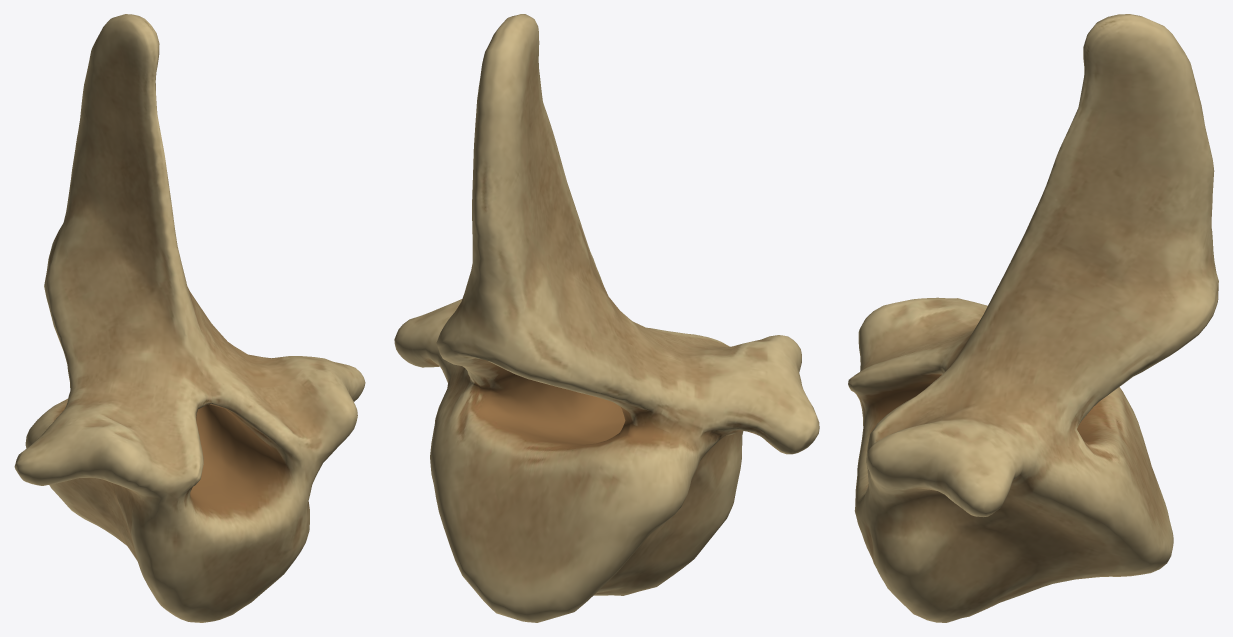
The picture shows the model from 3 angles, left to right: view 1: azimuth 30°, elevation 25°; view 2: azimuth 150°, elevation 25°; view 3: azimuth 270°, elevation 25°; orthographic projection. The views are drawn at different scales.
Parts seen in each view (by area): view 1: Group62196; view 2: Group62196; view 3: Group62196.
Part boxes in pixels (x1=…): Group62196: x1=14, y1=14, x2=365, y2=622; Group62196: x1=394, y1=14, x2=819, y2=622; Group62196: x1=848, y1=14, x2=1218, y2=622.
Bounding box in the file's own units: 54.06 × 79.71 × 44.14.
1 material, 1 textured.
